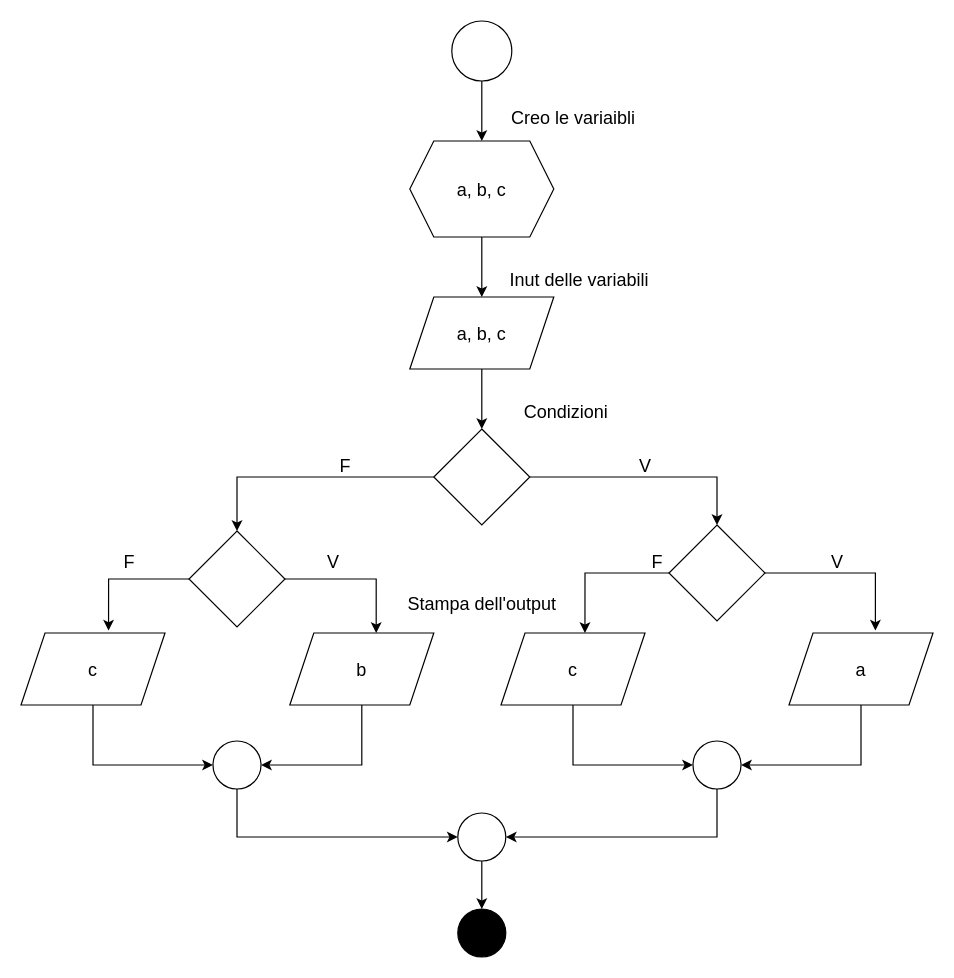
This 954x978 diagram has some shape labels left out. The shapes that lost their labels are listed below. From the top down, each one's centre as x and y in pixels, then its label:
pixel 481 476: a > b
pixel 236 578: b > c
pixel 716 572: a > c
